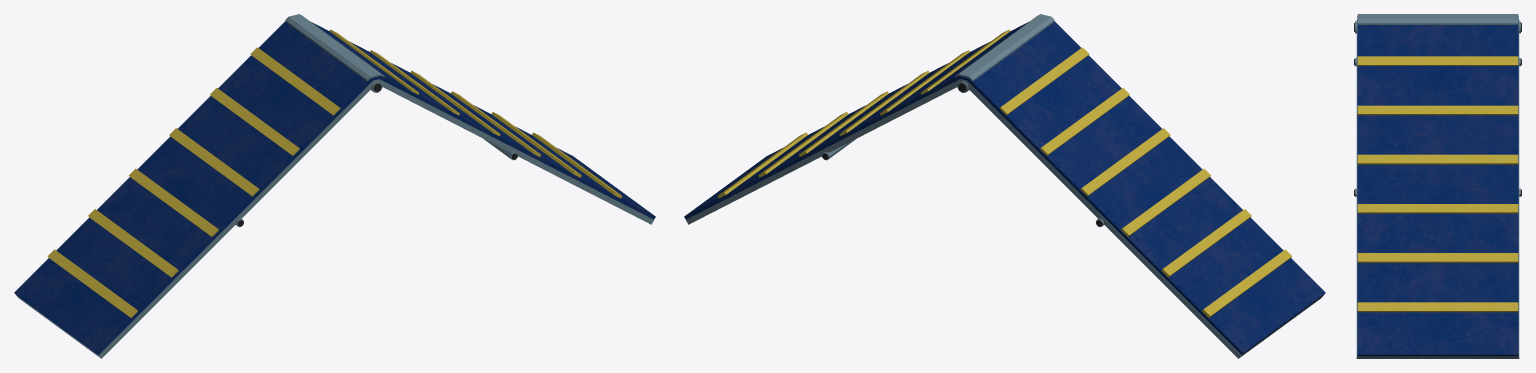
File: frame01.fbx
3 renders of one model, left to right at view 1: azimuth 30°, elevation 25°; view 2: azimuth 150°, elevation 25°; view 3: azimuth 270°, elevation 25°, orthographic. The views are drawn at different scales.
Parts seen in each view (by area): view 1: frame01; view 2: frame01; view 3: frame01.
Part boxes in pixels (x1,y1,x2,y2): frame01: (14,14,655,358); frame01: (684,14,1325,358); frame01: (1354,14,1521,358).
Bounding box in the file's own units: 257 × 94.8 × 68.27.
